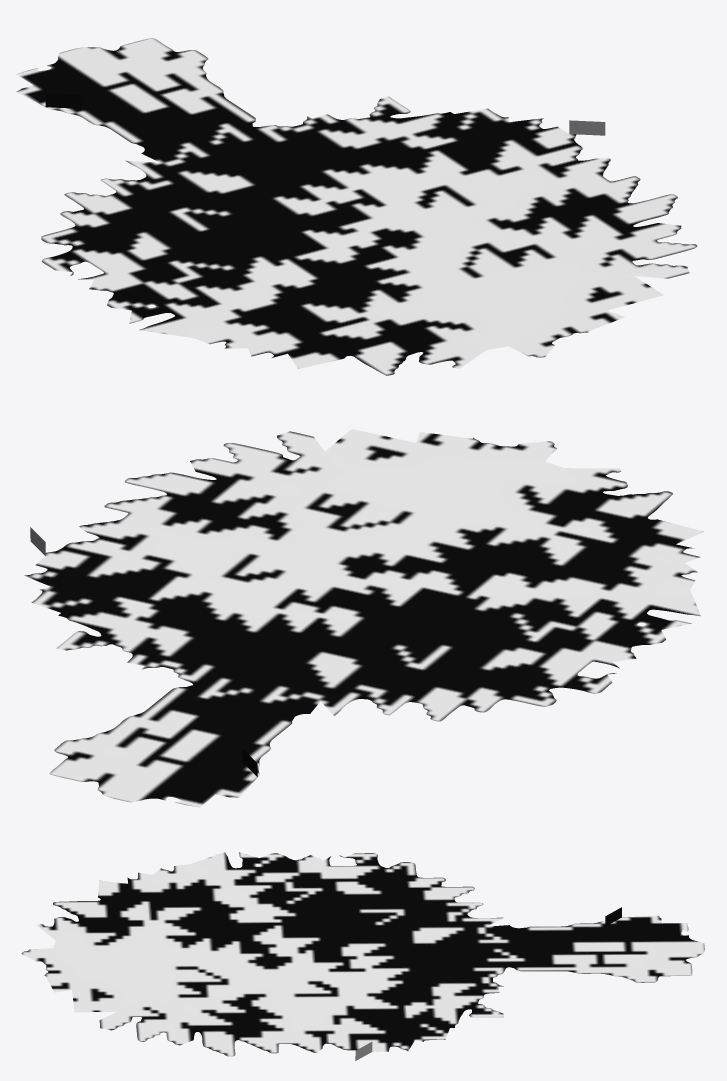
File: tree1.fbx
3 renders of one model, top to bottom at view 1: azimuth 30°, elevation 25°; view 2: azimuth 150°, elevation 25°; view 3: azimuth 270°, elevation 25°, orthographic. The views are drawn at different scales.
Visible parts, largest first — view 1: Cube; view 2: Cube; view 3: Cube.
Part boxes in pixels (x1,y1,x2,y2): Cube: (16, 38, 697, 375); Cube: (24, 429, 703, 807); Cube: (21, 852, 704, 1060).
Bounding box in the file's own units: 416 × 556 × 14.95.
